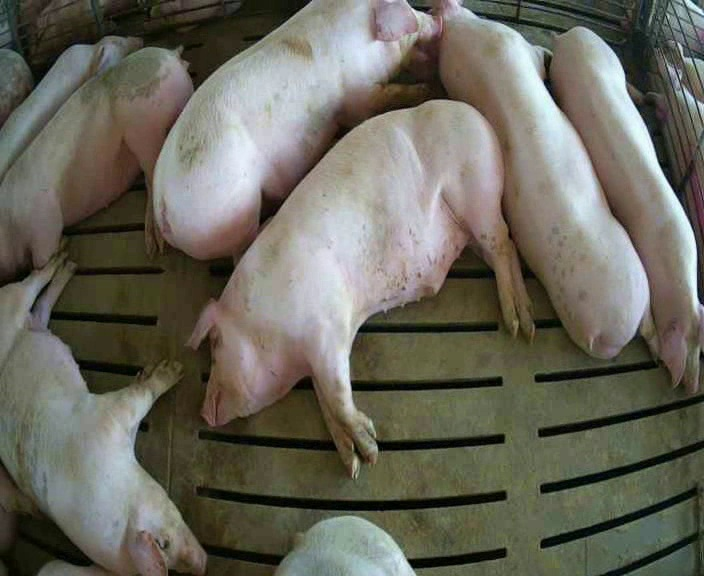pig: (189, 101, 532, 476), (405, 1, 658, 362), (152, 2, 441, 266), (0, 254, 204, 574), (550, 27, 703, 391), (0, 46, 192, 281), (0, 36, 142, 181), (275, 516, 414, 575)
